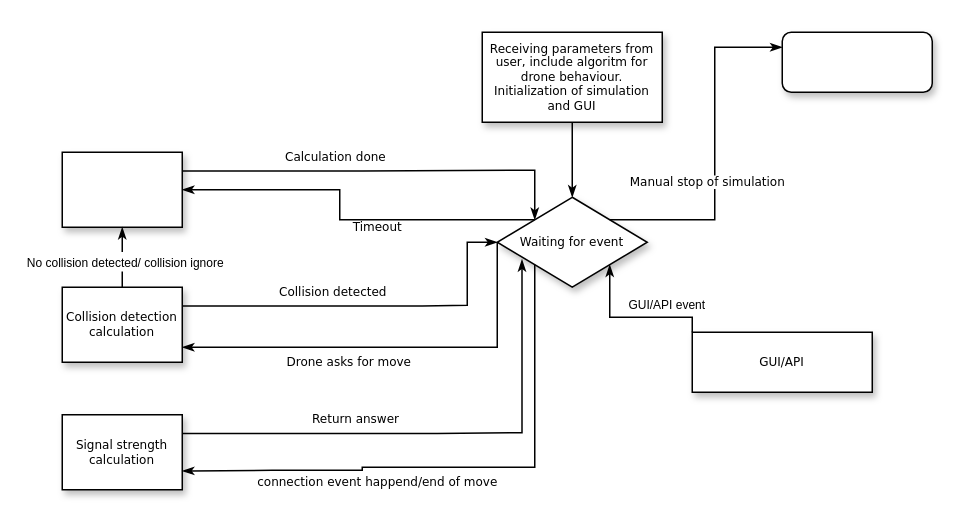
Image size: 968x527. Some labels were removed from this diagram. Each missing label, with the centre of its shape:
"Battery discharge calculation" goes at (123,191).
"Stop simulation" goes at (858,64).
